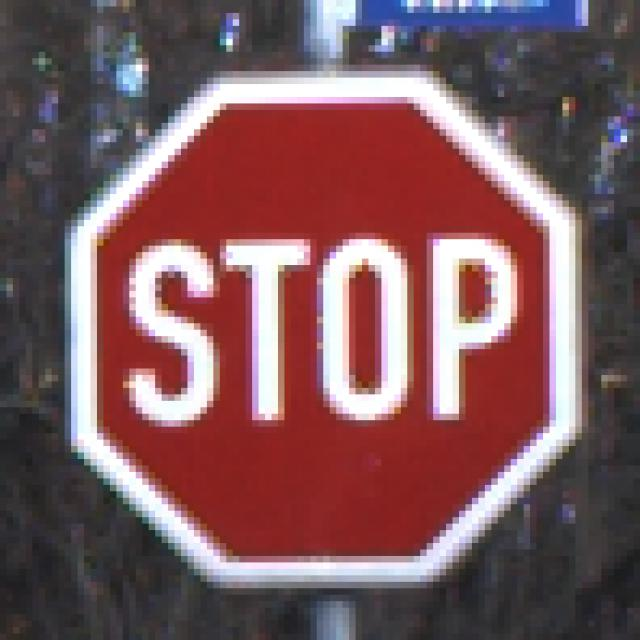STOP: (59, 53, 589, 589)
